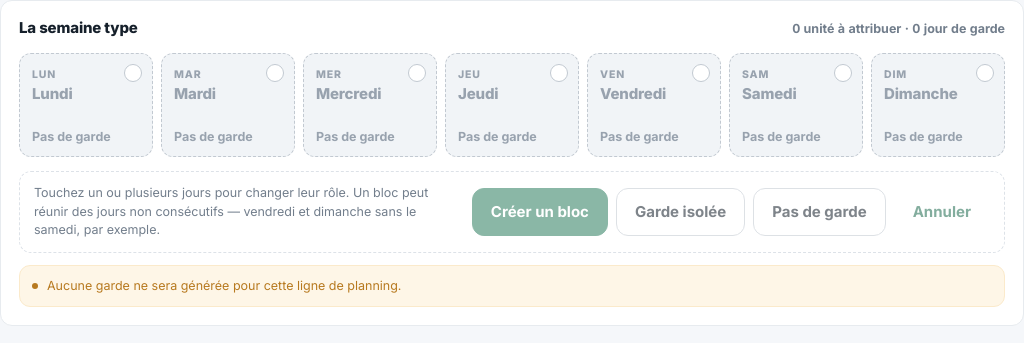
Scenario: WeekStructureEditor › zone d’actions stable (aucun saut de mise en page) › un jour sélectionné : même structure, résumé affiché, bloc impossible
Click the button "Mar Mardi Pas de garde". click: (228, 105)
box: [161, 53, 295, 157]
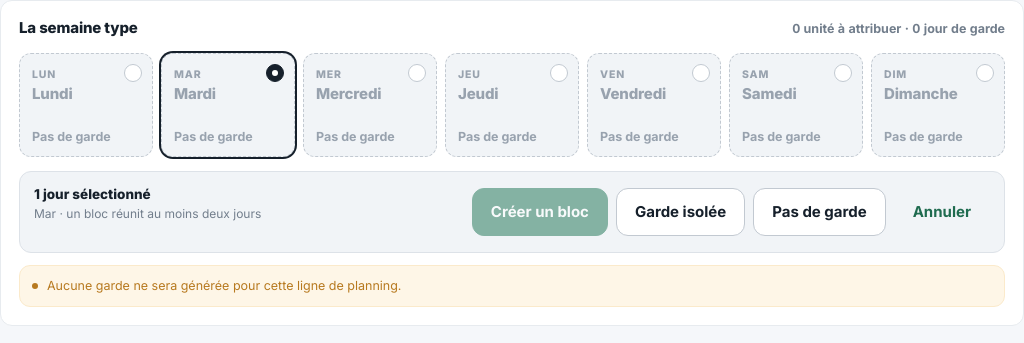
Expected: the element with class "wse__sel-summary" shows "1 jour sélectionné", [34, 186, 151, 202]
Expected: the element with class "wse__sel-summary" shows "Mar · un bloc réunit au moins deux jours", [34, 186, 261, 221]
Expected: the button "Garde isolée" is enabled, [616, 188, 745, 236]
